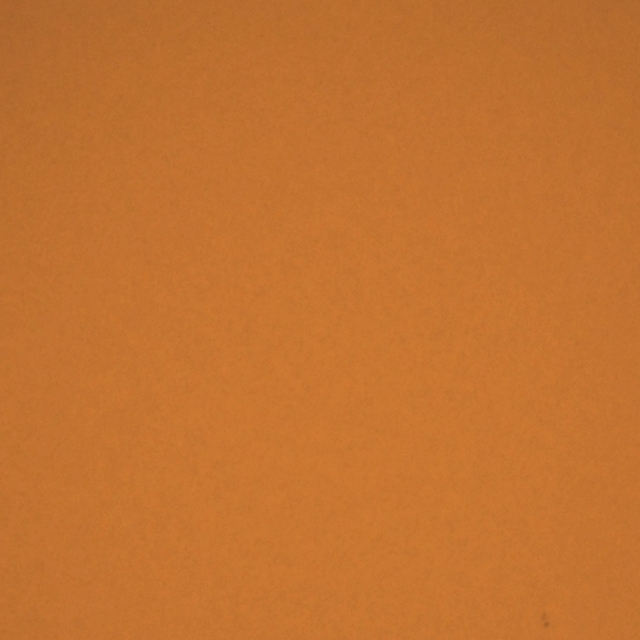sunspot: (540, 612, 551, 630)
